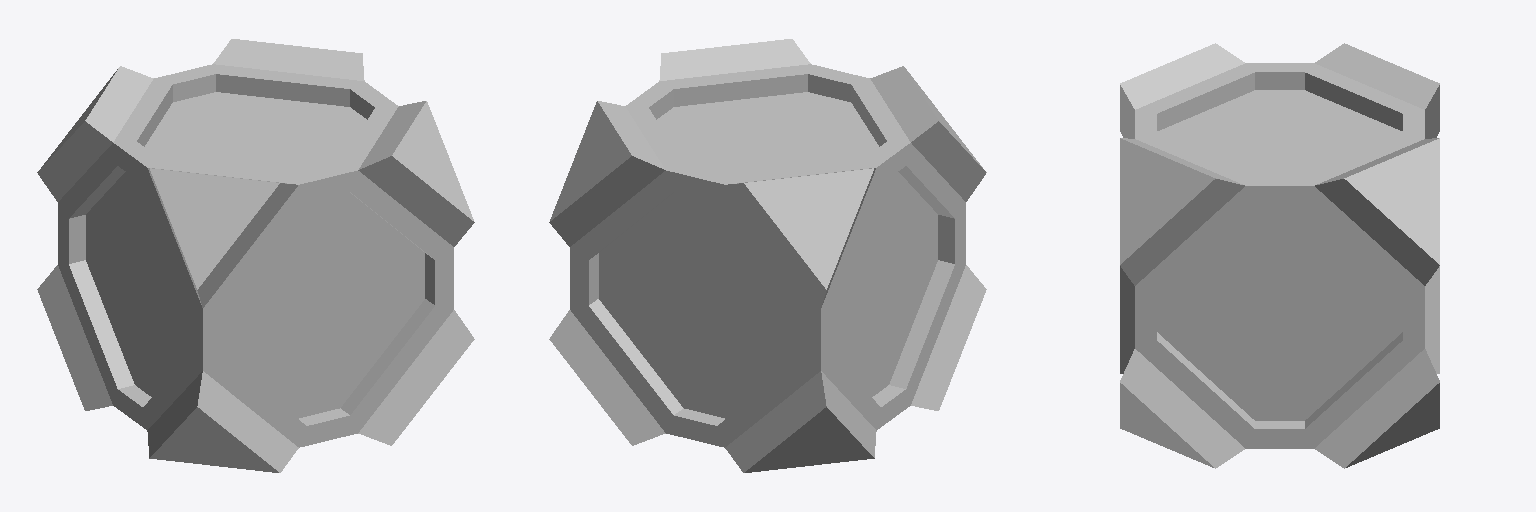
Rendered from ACube.obj.
3 renders of one model, left to right at view 1: azimuth 30°, elevation 25°; view 2: azimuth 150°, elevation 25°; view 3: azimuth 270°, elevation 25°, orthographic.
Parts seen in each view (by area): view 1: Cube; view 2: Cube; view 3: Cube.
Part boxes in pixels (x1,y1,x2,y2): Cube: (37, 39, 474, 472); Cube: (549, 39, 986, 472); Cube: (1120, 43, 1439, 468).
Bounding box in the file's own units: 2 × 2 × 2.